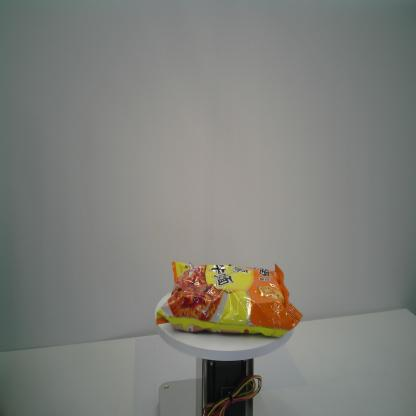Instant Noodles: (155, 260, 304, 338)
